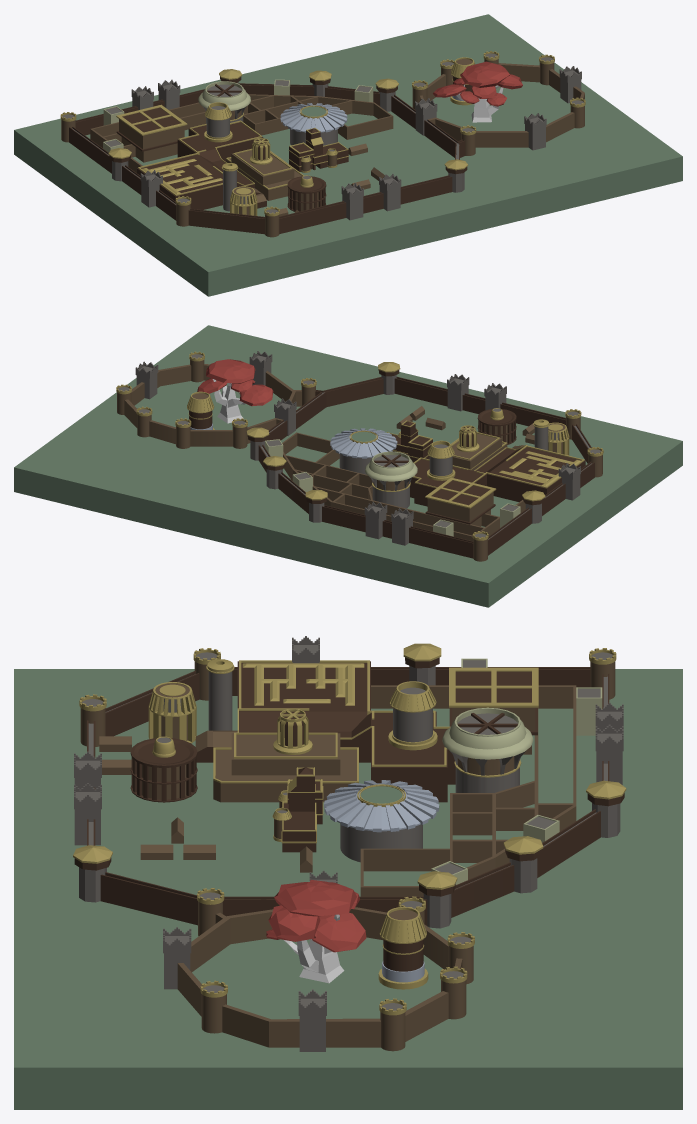
File: Winterfell.fbx
3 views of the same model, one above another, from view 1: azimuth 30°, elevation 25°; view 2: azimuth 150°, elevation 25°; view 3: azimuth 270°, elevation 25° (orthographic). The views are drawn at different scales.
Parts seen in each view (by area): view 1: Grass, WinterfellMainWalls, WinterfellFortifications, WinterfellBuilding2, WinterfellWeirwoodWalls, WinterfellBuilding1, WeirwoodTree, WinterfellTower1, WinterfellBuilding3, WinterfellTower7, WinterfellTower2, WinterfellTower4 (+19 smaller); view 2: Grass, WinterfellMainWalls, WinterfellFortifications, WinterfellBuilding2, WinterfellWeirwoodWalls, WeirwoodTree, WinterfellBuilding1, WinterfellTower7, WinterfellTower1, WinterfellBuilding3, WinterfellTower2, WinterfellTower4 (+22 smaller); view 3: Grass, WinterfellMainWalls, WinterfellBuilding2, WinterfellFortifications, WinterfellWeirwoodWalls, WinterfellBuilding3, WeirwoodTree, WinterfellTower1, WinterfellTower7, WinterfellBuilding1, WinterfellTower2, WinterfellTower6 (+27 smaller).
Part boxes in pixels (x1,y1,x2,y2): Grass: [14, 14, 682, 296]; WinterfellMainWalls: [69, 83, 465, 234]; WinterfellFortifications: [90, 94, 393, 172]; WinterfellBuilding2: [137, 120, 266, 209]; WinterfellWeirwoodWalls: [419, 63, 584, 147]; WinterfellBuilding1: [116, 104, 187, 162]; WeirwoodTree: [433, 61, 522, 122]; WinterfellTower1: [280, 103, 347, 145]; WinterfellBuilding3: [226, 148, 304, 200]; WinterfellTower7: [198, 81, 250, 123]; WinterfellTower2: [287, 175, 326, 211]; WinterfellTower4: [204, 102, 232, 142]; Grass: [14, 325, 682, 607]; WinterfellMainWalls: [258, 376, 594, 558]; WinterfellFortifications: [282, 432, 525, 541]; WinterfellBuilding2: [410, 445, 585, 506]; WinterfellWeirwoodWalls: [124, 364, 301, 446]; WeirwoodTree: [197, 359, 273, 423]; WinterfellBuilding1: [425, 477, 496, 526]; WinterfellTower7: [365, 451, 417, 508]; WinterfellTower1: [330, 428, 397, 474]; WinterfellBuilding3: [450, 432, 507, 470]; WinterfellTower2: [477, 408, 516, 444]; WinterfellTower4: [427, 440, 455, 480]; Grass: [14, 669, 682, 1109]; WinterfellMainWalls: [87, 667, 609, 925]; WinterfellBuilding2: [195, 660, 455, 802]; WinterfellFortifications: [360, 685, 576, 896]; WinterfellWeirwoodWalls: [177, 907, 462, 1047]; WinterfellBuilding3: [213, 732, 358, 802]; WeirwoodTree: [266, 879, 366, 983]; WinterfellTower1: [324, 780, 439, 862]; WinterfellTower7: [442, 707, 533, 792]; WinterfellBuilding1: [449, 667, 538, 754]; WinterfellTower2: [130, 736, 197, 802]; WinterfellTower6: [378, 907, 428, 989].
Size of the model in its own units: 809 by 122 by 574.
